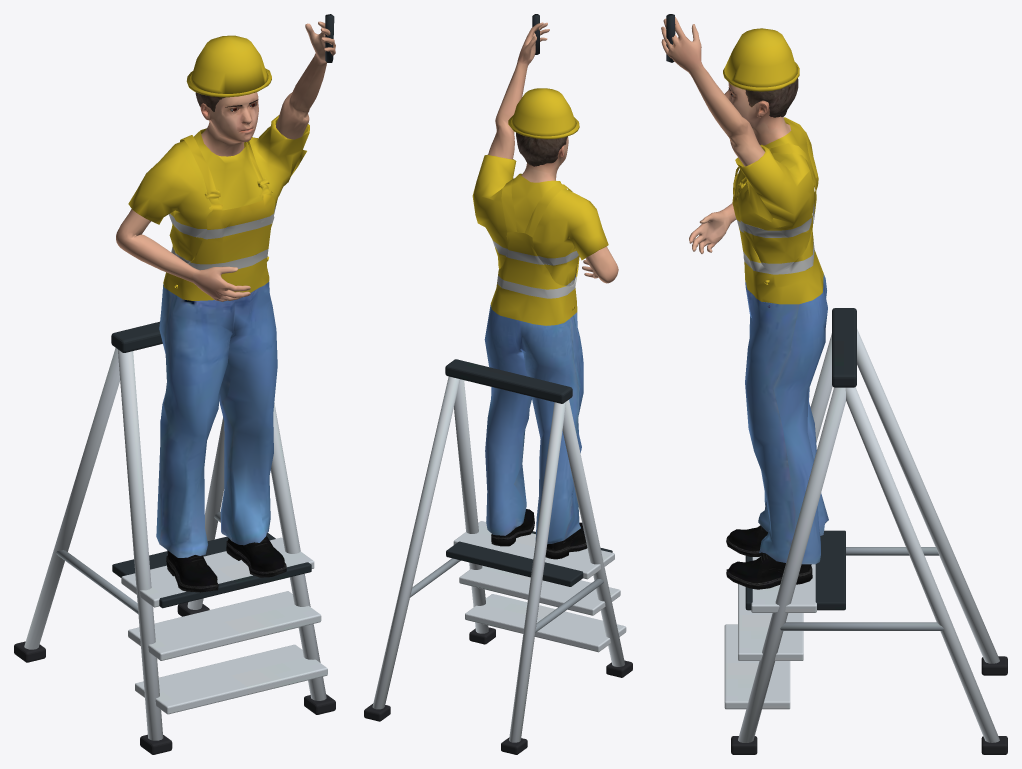
The model's file is worker-ladder.glb.
3 views of the same model, side by side, from view 1: azimuth 30°, elevation 25°; view 2: azimuth 150°, elevation 25°; view 3: azimuth 270°, elevation 25° (orthographic). The views are drawn at different scales.
Visible parts, largest first — view 1: male_worksuit01, Step ladder | connected non-slip tread, Drew | anatomical body, Electrician | unbranded insulated tester, shoes03, Step ladder | rubber foot, Step ladder | spreader brace; view 2: male_worksuit01, Step ladder | connected non-slip tread, Electrician | unbranded insulated tester, Drew | anatomical body, shoes03, Step ladder | rubber foot, short02, Step ladder | spreader brace; view 3: male_worksuit01, Step ladder | connected non-slip tread, Drew | anatomical body, Electrician | unbranded insulated tester, shoes03, Step ladder | spreader brace, Step ladder | rubber foot, short02.
Boxes of the visible parts, x1,y1,x2,y2 form: male_worksuit01: (128,35,309,557); Step ladder | connected non-slip tread: (24,348,327,740); Drew | anatomical body: (116,21,335,301); Electrician | unbranded insulated tester: (111,14,334,608); shoes03: (166,535,286,592); Step ladder | rubber foot: (14,602,335,754); Step ladder | spreader brace: (56,511,220,613); male_worksuit01: (472,88,608,543); Step ladder | connected non-slip tread: (372,376,626,742); Electrician | unbranded insulated tester: (445,14,612,586); Drew | anatomical body: (488,22,618,283); shoes03: (491,509,587,559); Step ladder | rubber foot: (364,627,632,754); short02: (516,132,567,166); Step ladder | spreader brace: (410,558,603,632); male_worksuit01: (723,28,828,564); Step ladder | connected non-slip tread: (724,329,999,742); Drew | anatomical body: (661,17,791,253); Electrician | unbranded insulated tester: (666,14,856,610); shoes03: (726,525,812,589); Step ladder | spreader brace: (780,547,943,630); Step ladder | rubber foot: (731,656,1007,754); short02: (745,78,798,117).
Size of the model in its own units: 0.702 by 2.54 by 1.11.
Materials: 15 (14 with a texture image).
